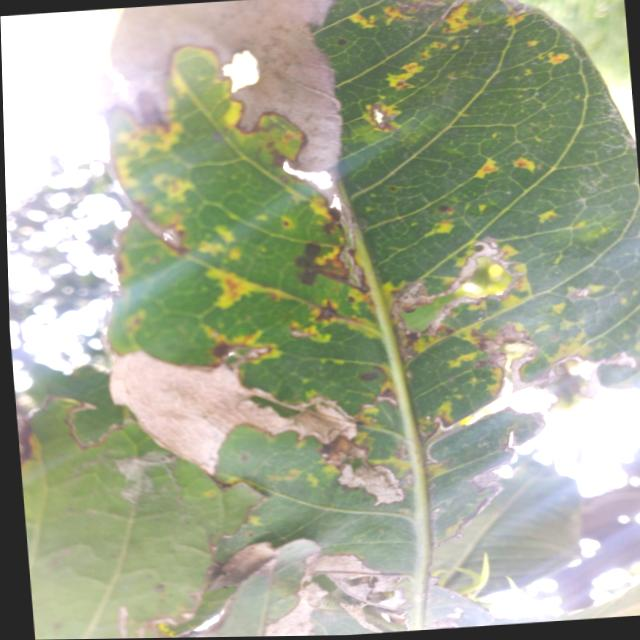Anthracnose: (285, 235, 363, 295), (312, 298, 342, 328), (508, 156, 538, 174), (470, 161, 500, 178), (467, 329, 488, 351), (358, 370, 380, 384), (434, 202, 453, 216)
Bacterial Cancer: (96, 0, 373, 199), (96, 330, 341, 487), (293, 546, 407, 617)
